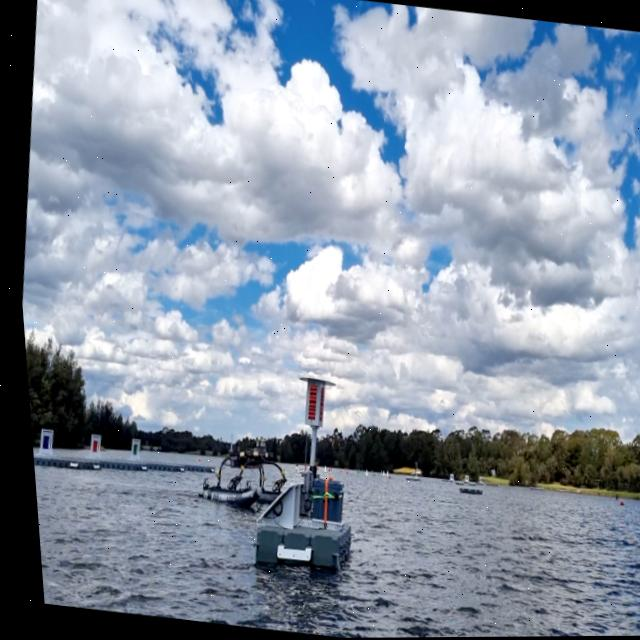led: (296, 384, 314, 425)
